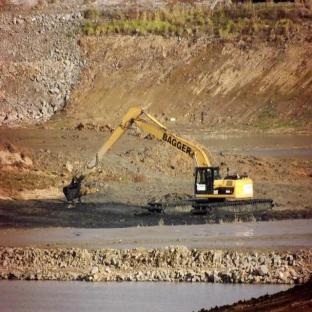ExcavationMachinery: (43, 100, 277, 233)
